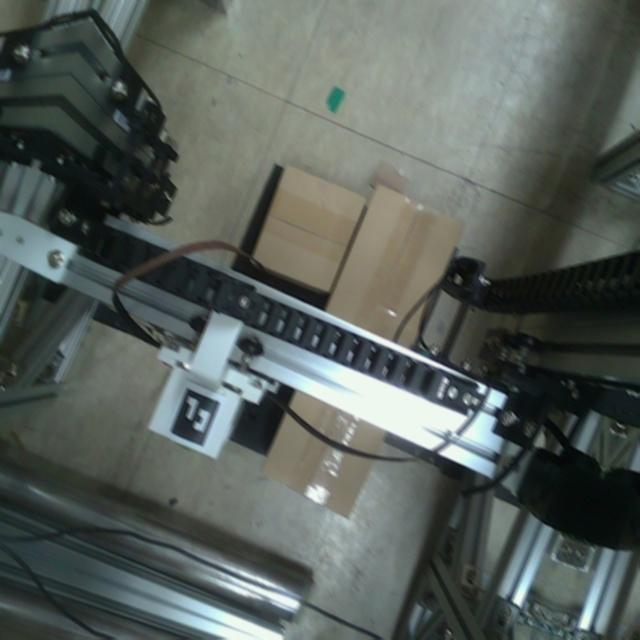box: (244, 158, 374, 298)
